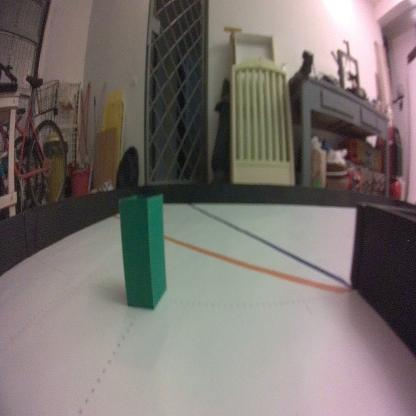green: (116, 191, 170, 313)
